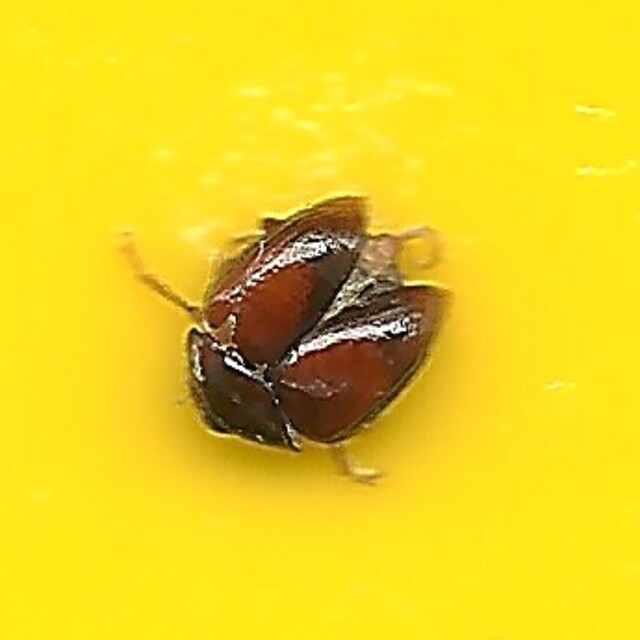Coleoptera: (186, 189, 454, 451)
